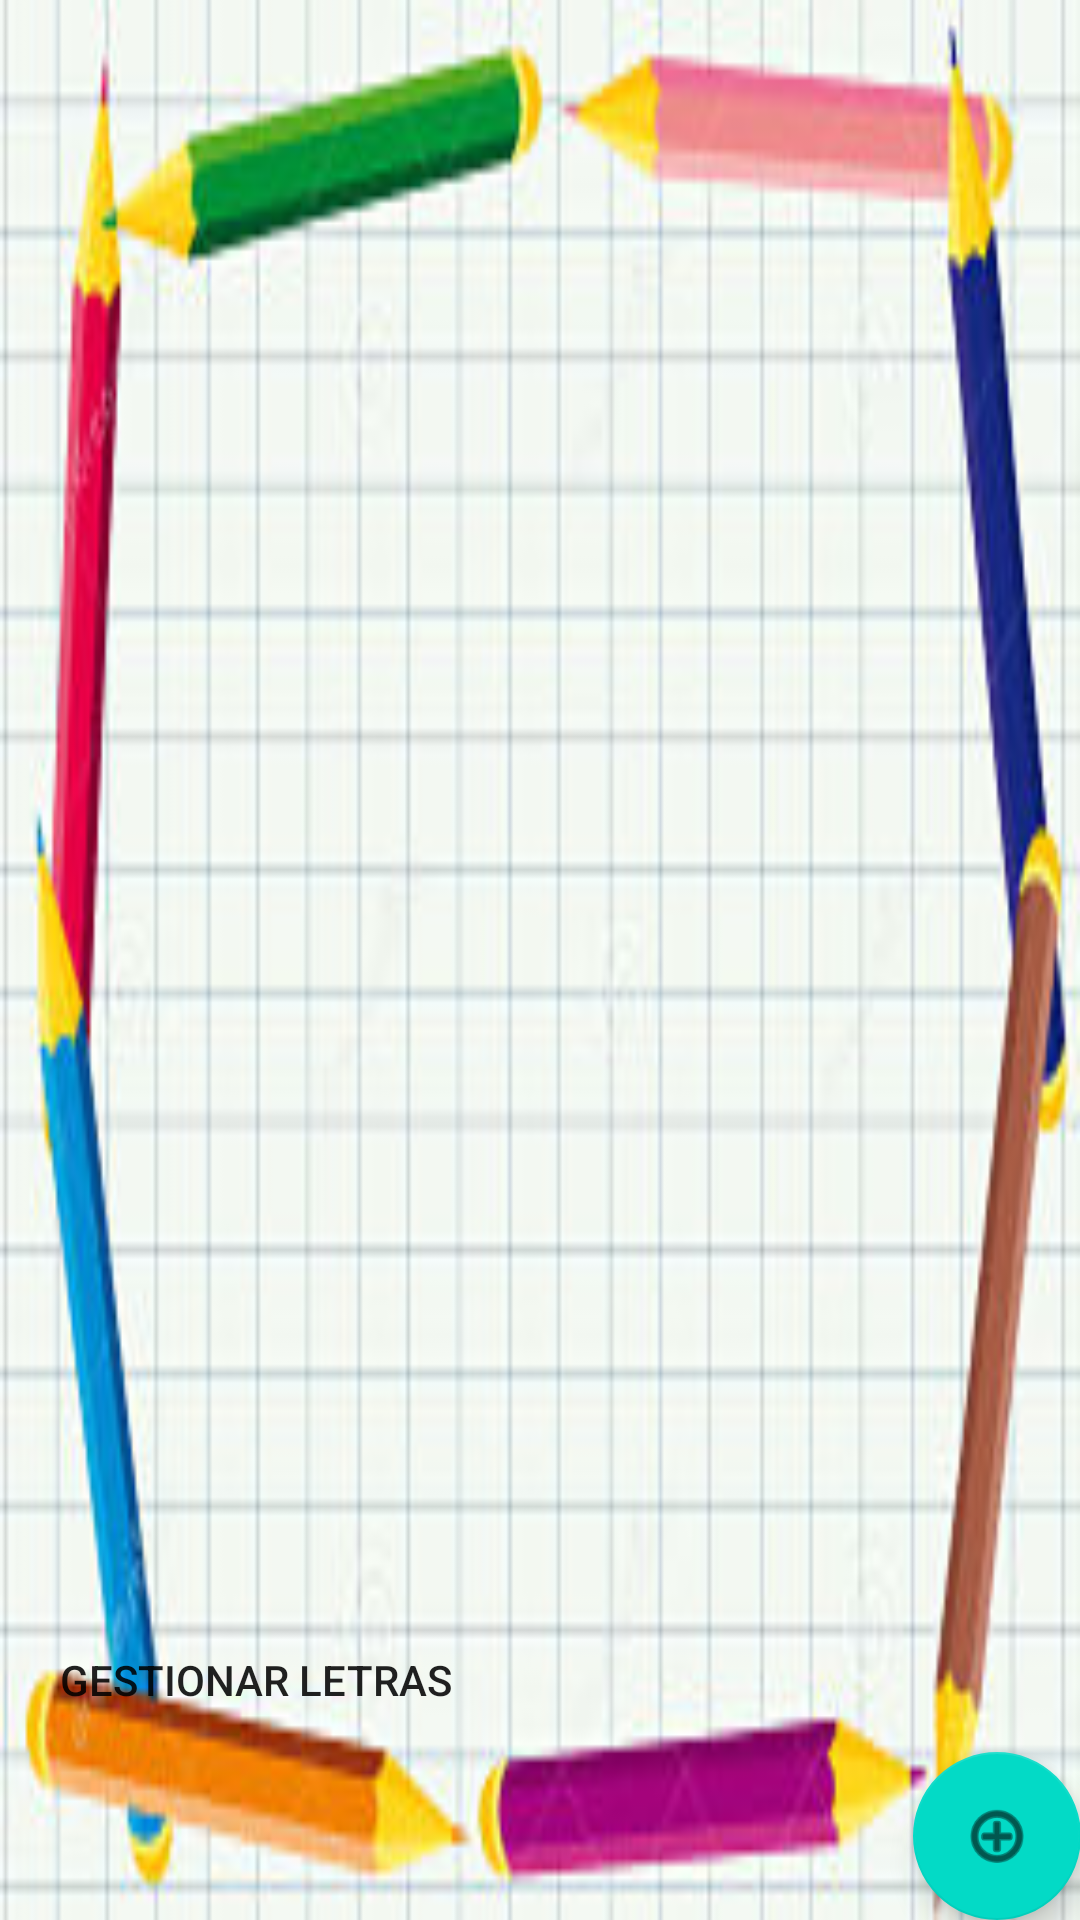

Icon click points for this 1080px x 1920px phone screenshot, format (x,y):
add: (996,1836)
